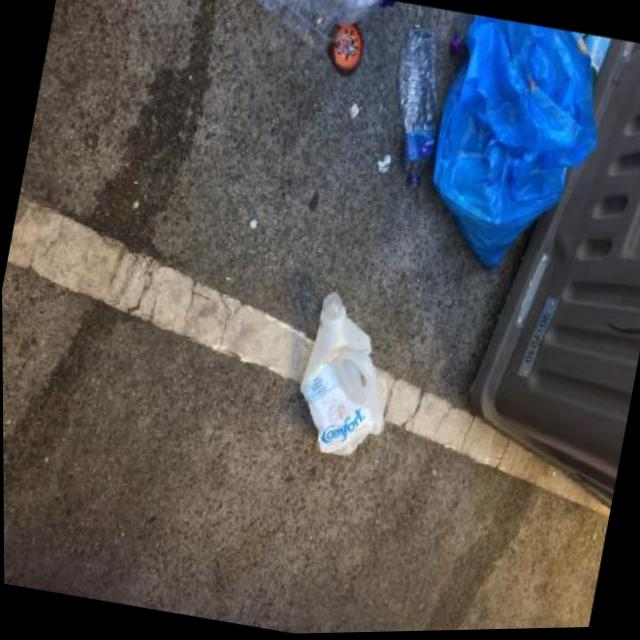metal: (576, 33, 613, 85), (375, 152, 394, 175), (249, 216, 260, 229)
plastic: (412, 9, 620, 289), (287, 286, 409, 464), (375, 22, 458, 191), (239, 0, 383, 62), (323, 17, 369, 76)
